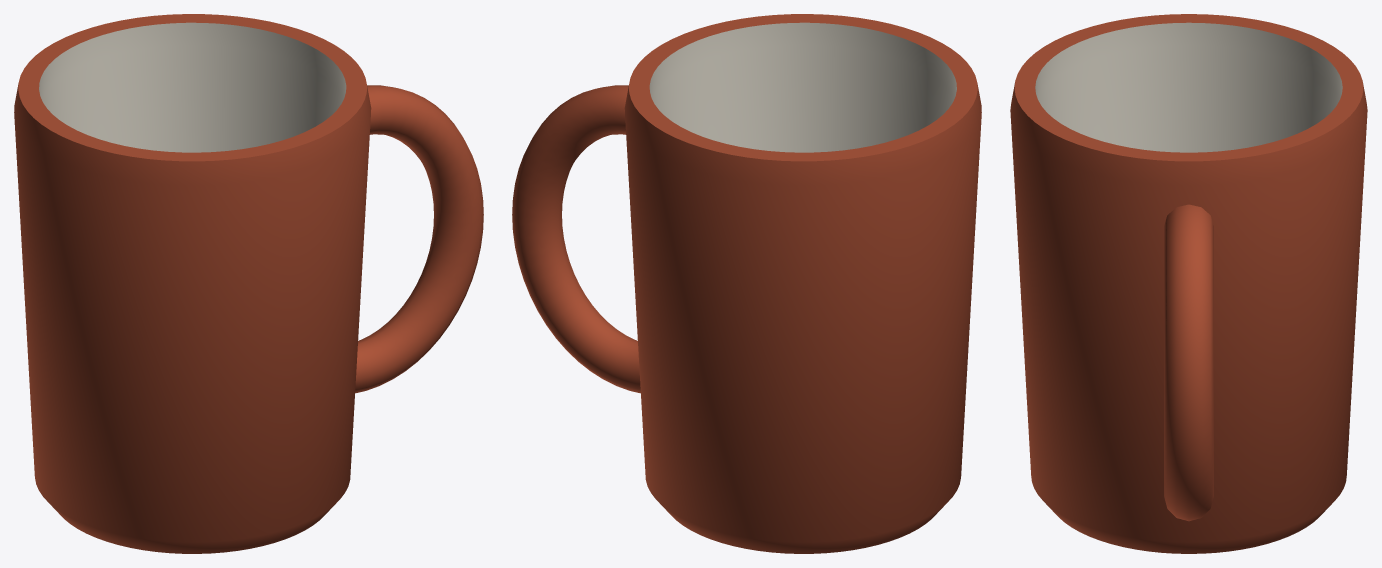
The model's file is mug.glb.
The picture shows the model from 3 angles, left to right: view 1: azimuth 30°, elevation 25°; view 2: azimuth 150°, elevation 25°; view 3: azimuth 270°, elevation 25°; orthographic projection.
Parts seen in each view (by area): view 1: Mug with open cavity, Rounded open handle; view 2: Mug with open cavity, Rounded open handle; view 3: Mug with open cavity, Rounded open handle.
Part boxes in pixels (left/top/right/bottom): Mug with open cavity: left=14, top=14, right=371, bottom=553; Rounded open handle: left=355, top=85, right=483, bottom=393; Mug with open cavity: left=624, top=14, right=981, bottom=553; Rounded open handle: left=512, top=85, right=640, bottom=393; Mug with open cavity: left=1010, top=14, right=1367, bottom=553; Rounded open handle: left=1164, top=204, right=1213, bottom=521.
Bounding box in the file's own units: 0.123 × 0.108 × 0.086.
